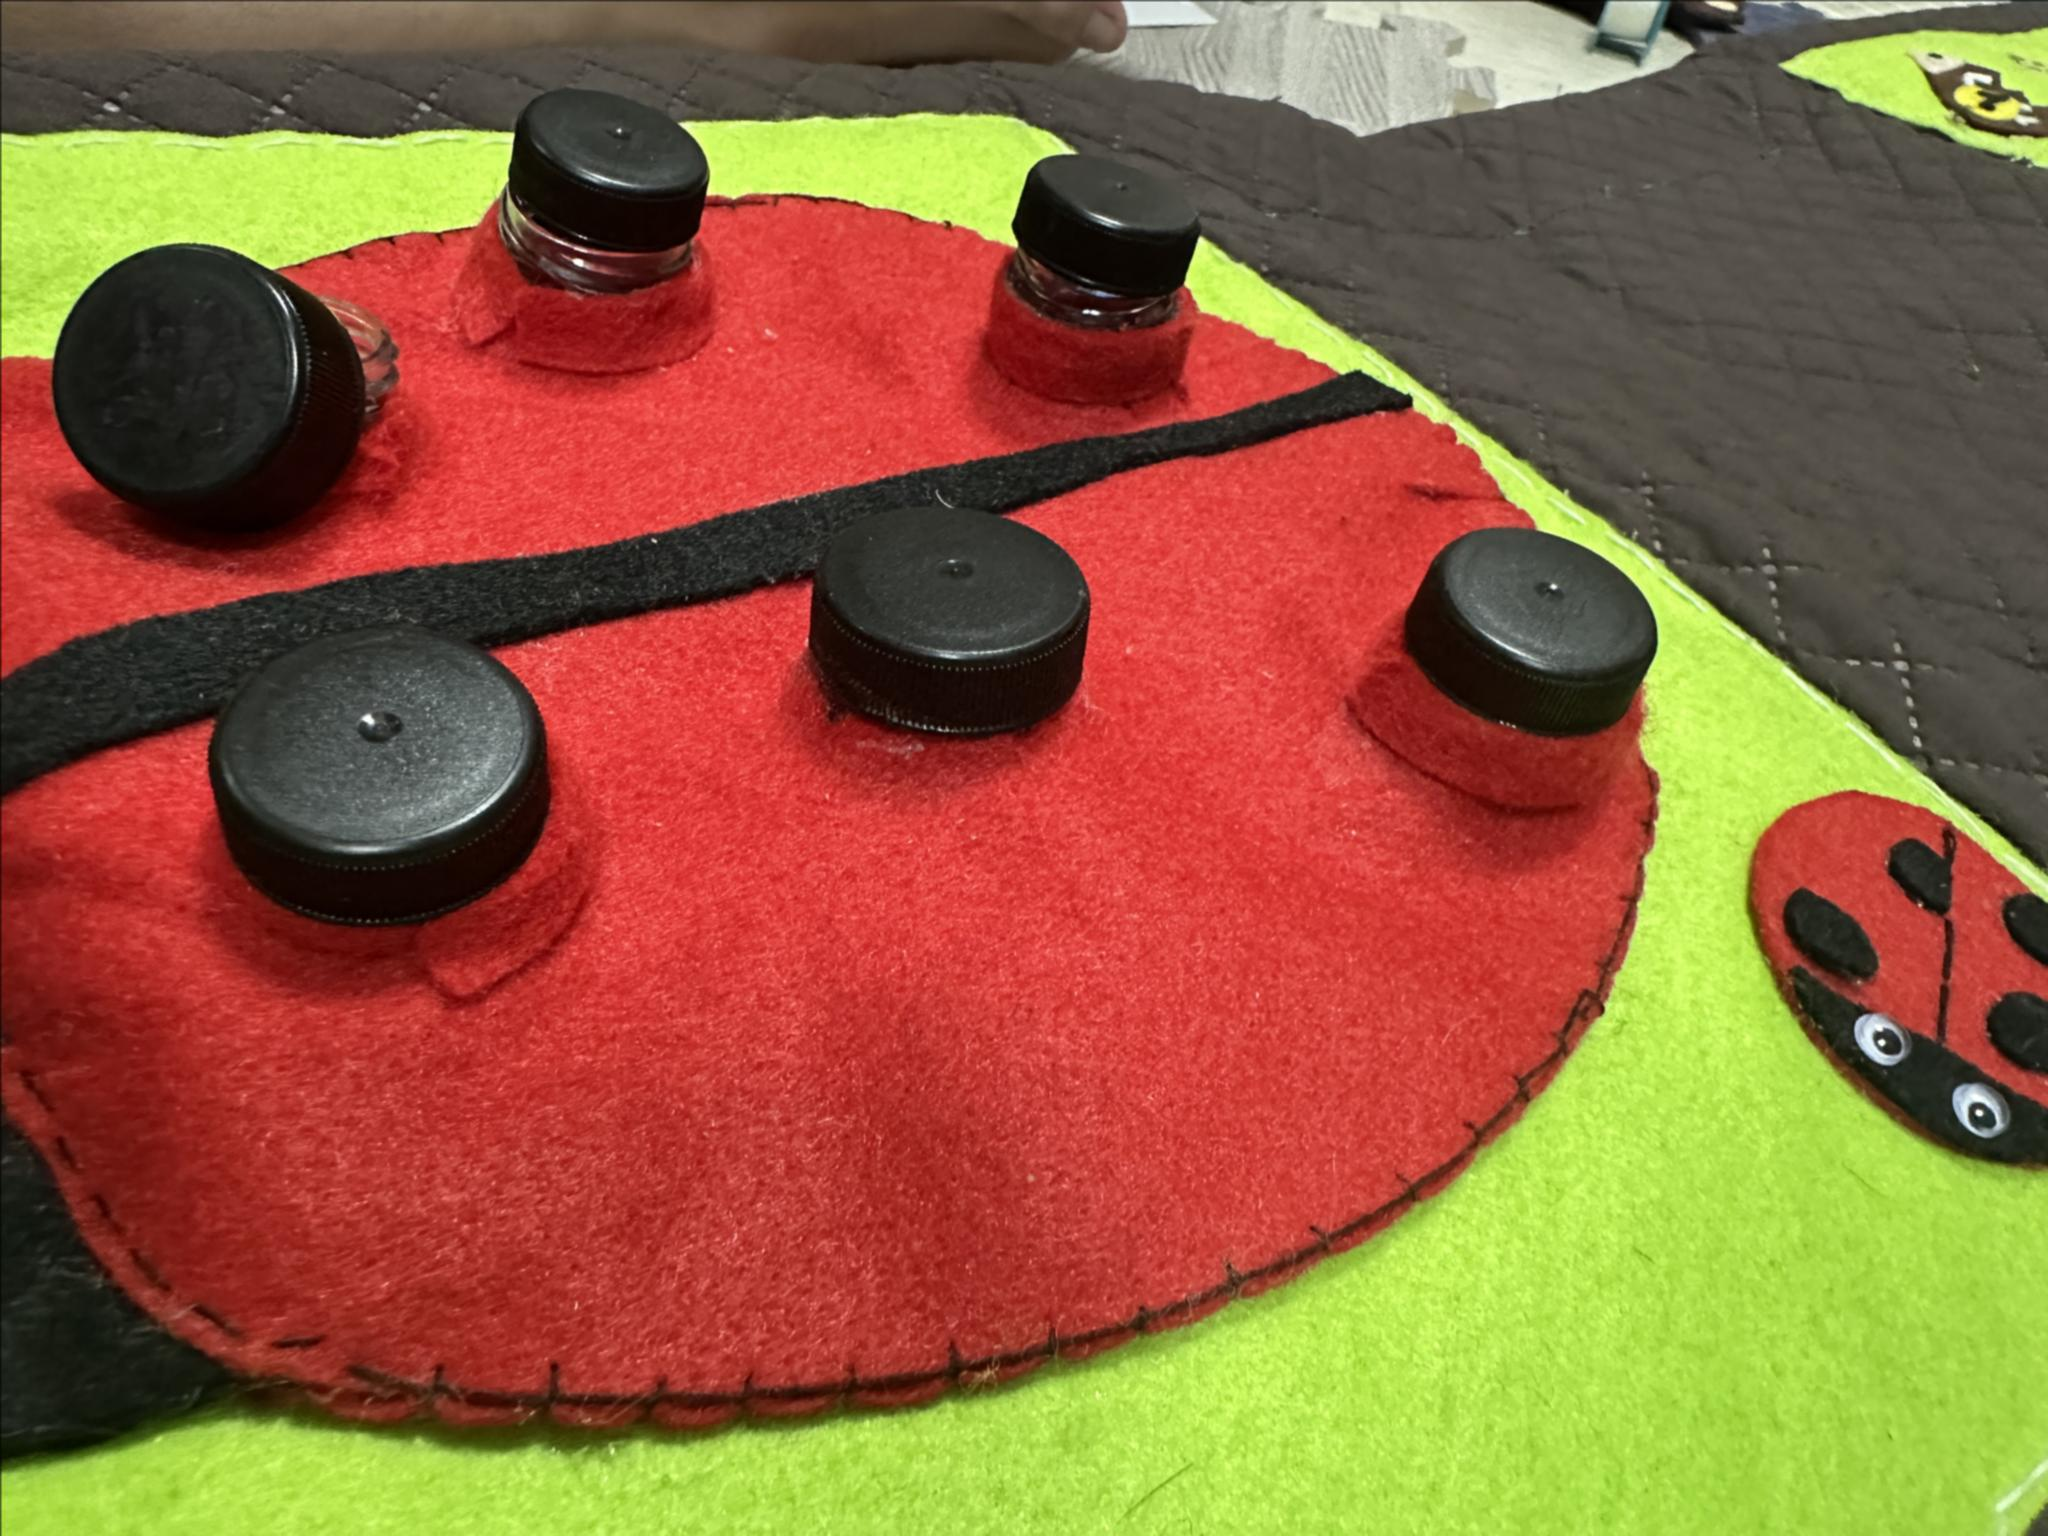cap_ng: (44, 227, 418, 565), (458, 74, 713, 386), (959, 132, 1214, 421)
cap_ok: (200, 605, 566, 1028), (772, 478, 1138, 792), (1337, 515, 1674, 831)
